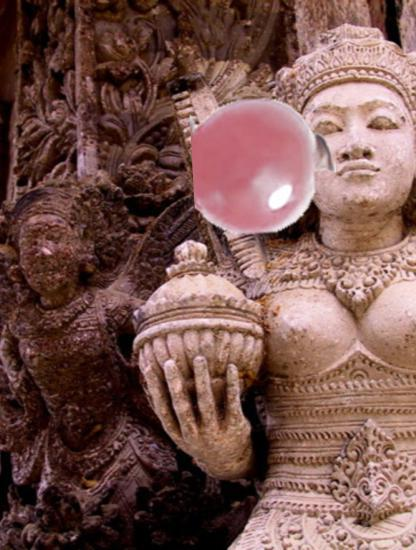Redcurrant: (193, 95, 336, 238)
